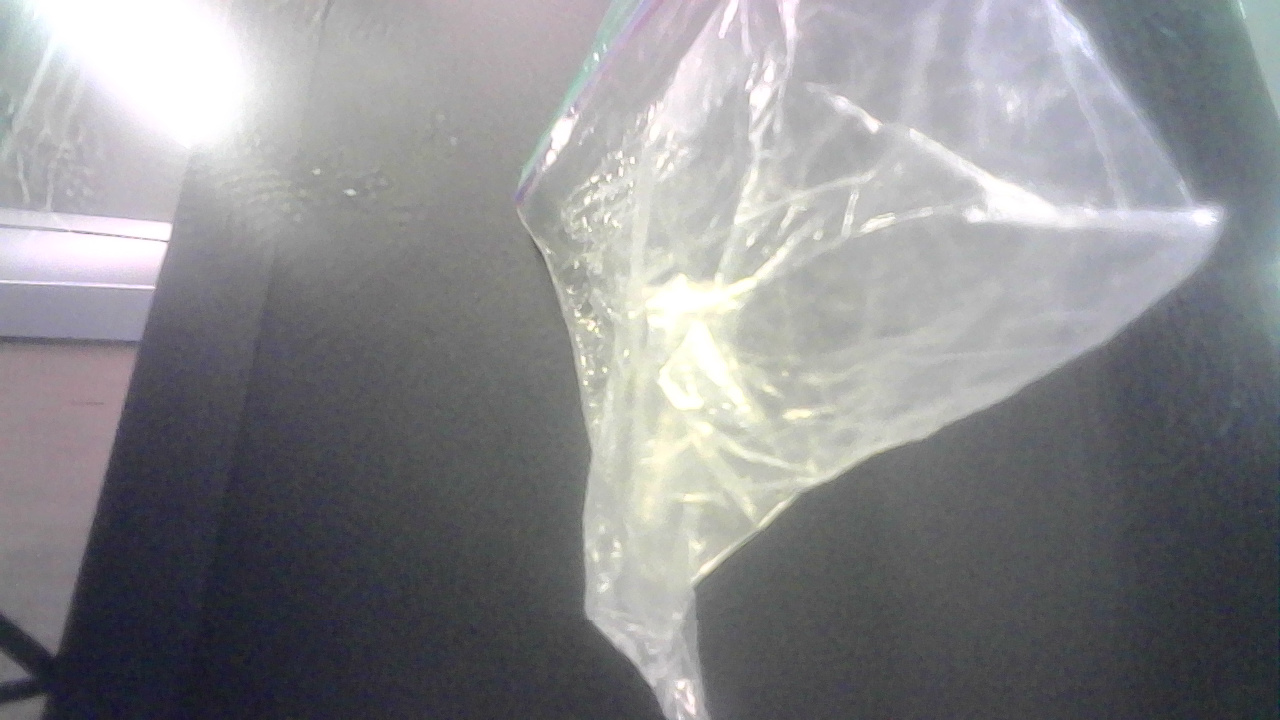Plastic_Recycling: (514, 24, 1236, 720)
